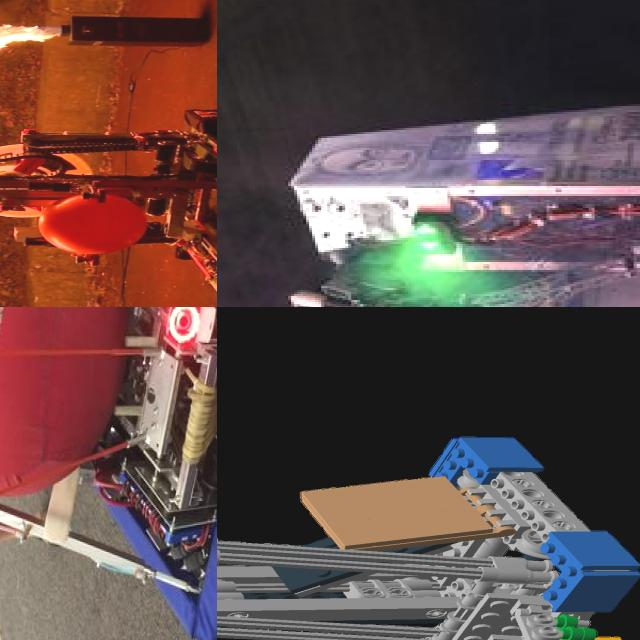FRC-Robots: (237, 37, 640, 307), (217, 432, 629, 640), (0, 307, 217, 640), (0, 98, 217, 307)
